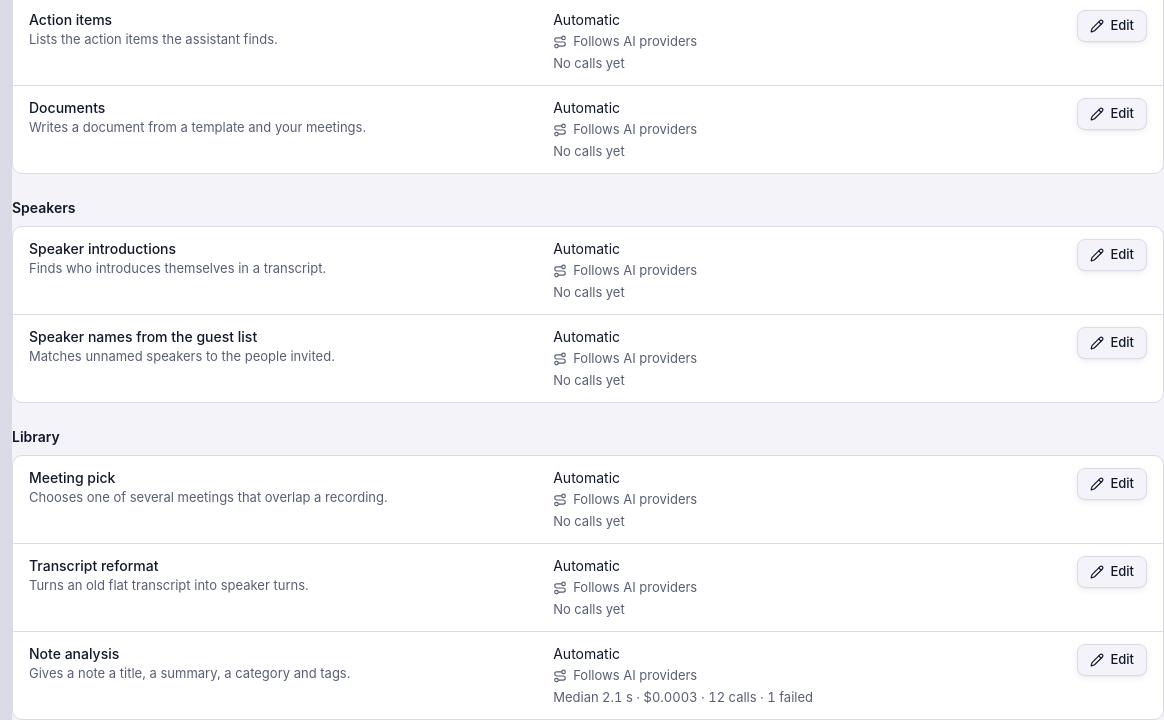
Test: PipelineSection › hides the model for a harness that ignores it, and the effort for one that has no levels
(page scrolled)
Step 1. Click the button with aria-label "Edit Note analysis" → point(1112, 660), box [1077,644,1147,676]
(page scrolled)
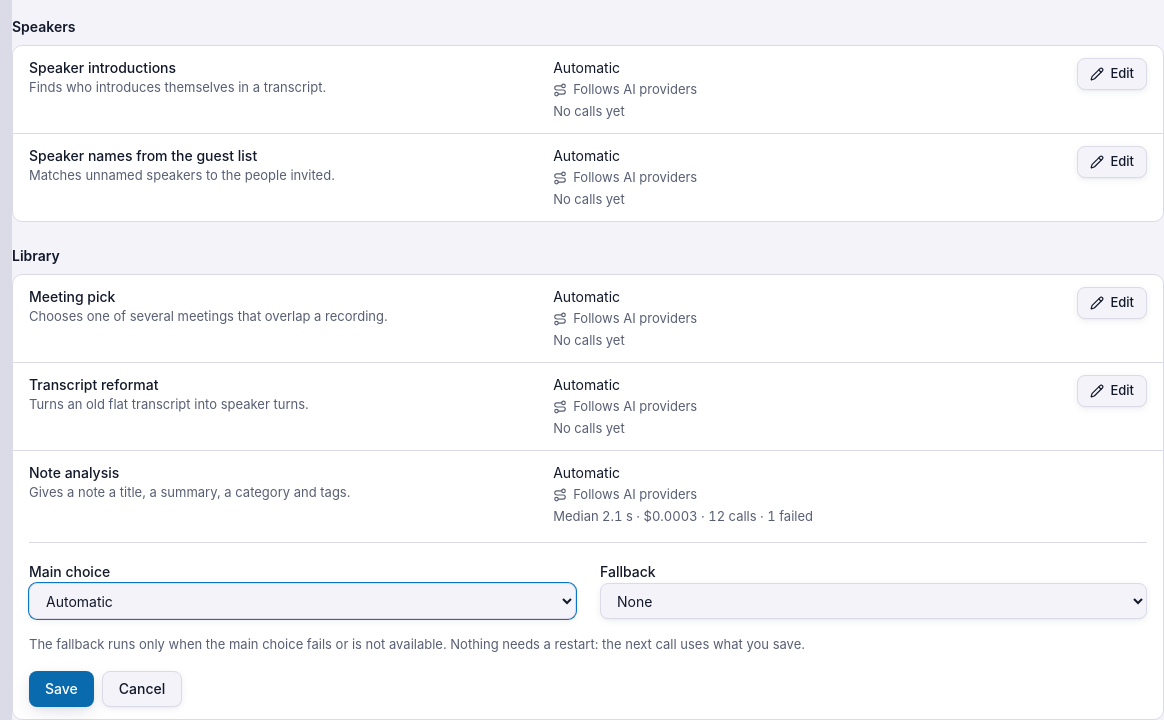
Step 2. Select "Kiro" in the dropdown labelled "Main choice" → point(302, 601), box [29,583,576,619]
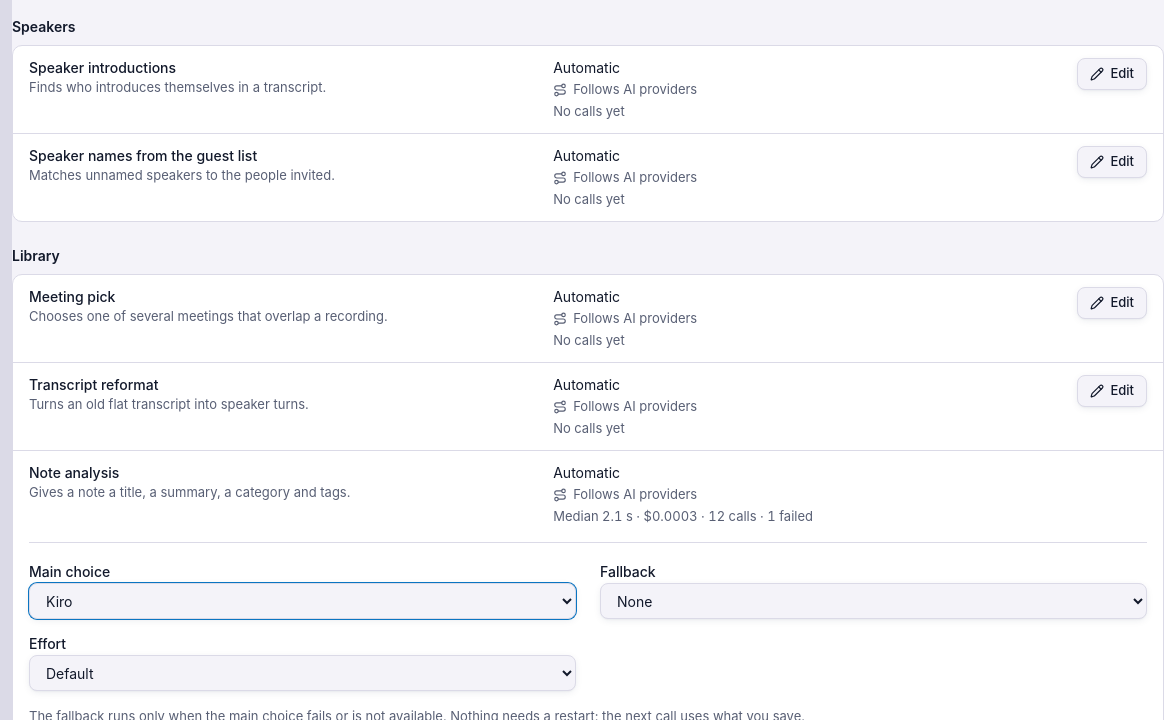
Expected: the field labelled "Model" is not shown
Expected: the dropdown labelled "Effort" is shown, [29,655,576,691]
Step 3. Select "Gemini (API key)" in the dropdown labelled "Main choice" → point(302, 601), box [29,583,576,619]
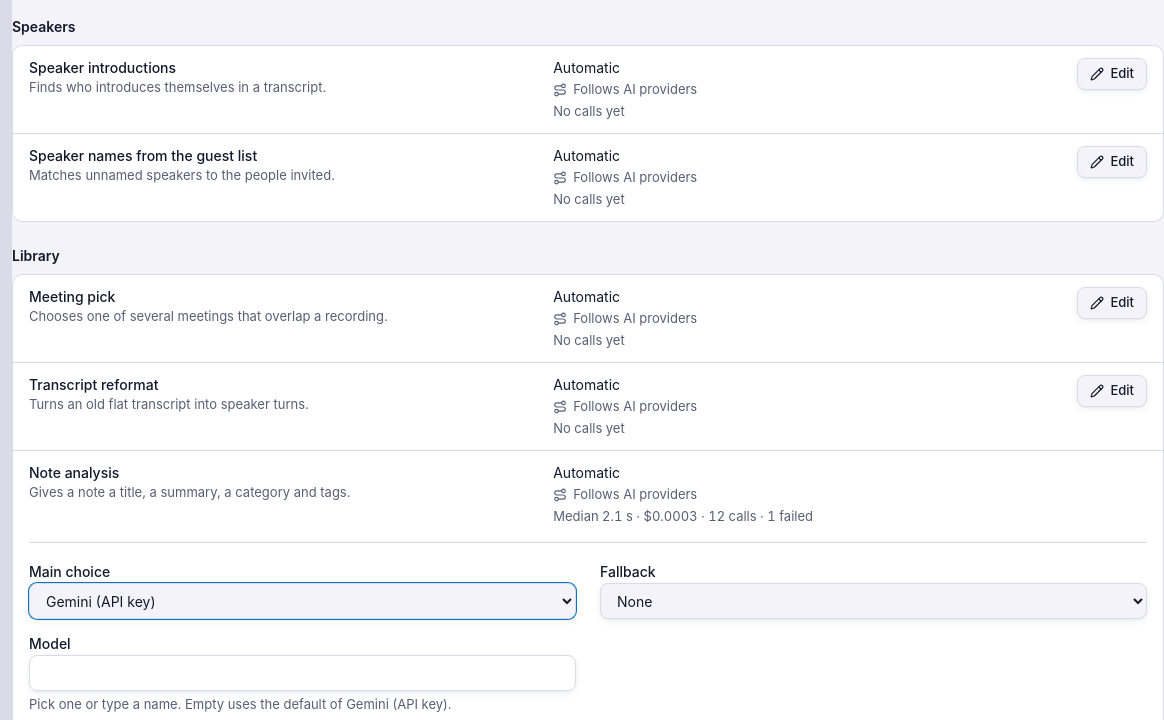
Expected: the field labelled "Model" is shown, [29,655,576,691]
Expected: the label labelled "Effort" is gone
Step 4. Select "Automatic" in the dropdown labelled "Main choice" → point(302, 601), box [29,583,576,619]
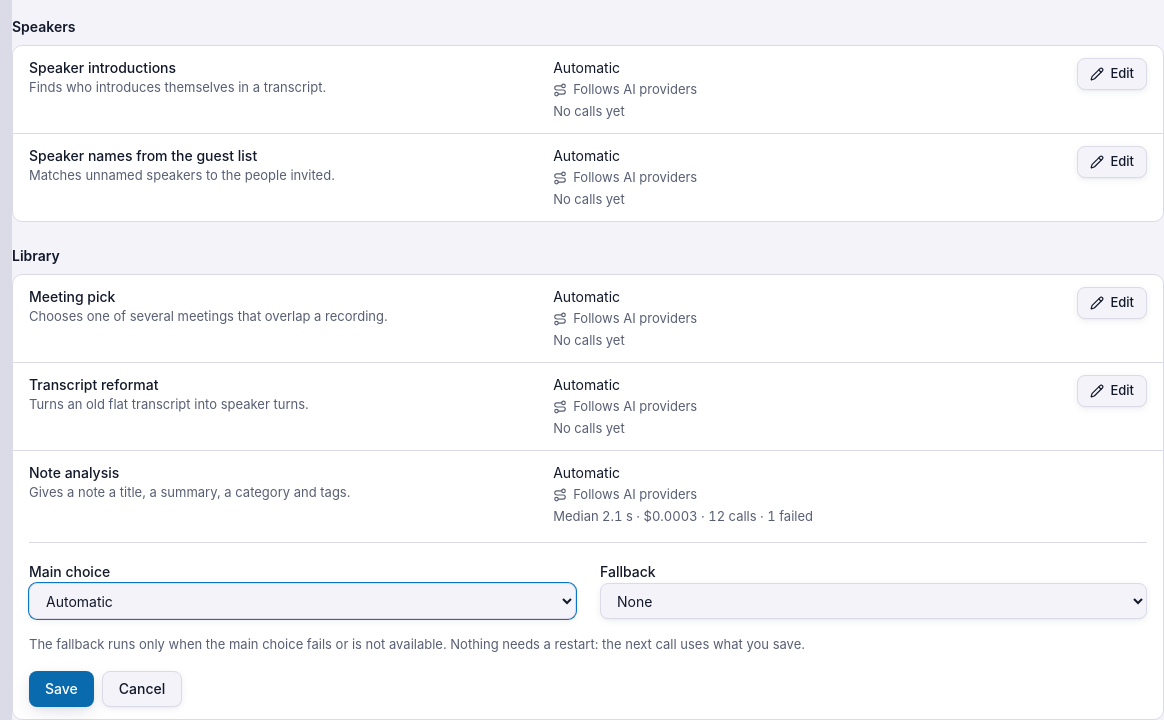
Expected: the label labelled "Effort" is not shown
Expected: the label labelled "Model" is gone
